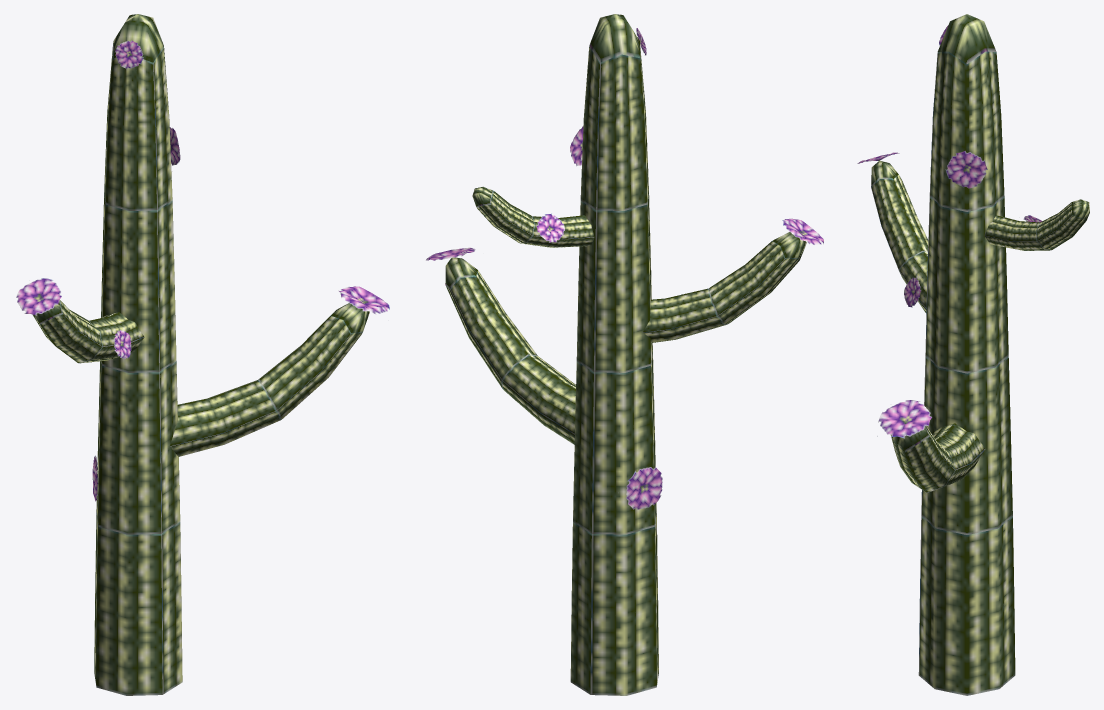
The model's file is cactus_Flowers_Large_hiPoly.fbx.
3 views of the same model, side by side, from view 1: azimuth 30°, elevation 25°; view 2: azimuth 150°, elevation 25°; view 3: azimuth 270°, elevation 25° (orthographic).
Parts seen in each view (by area): view 1: cactus_Flowers_Large_hiPoly; view 2: cactus_Flowers_Large_hiPoly; view 3: cactus_Flowers_Large_hiPoly.
Part boxes in pixels (x1=…): cactus_Flowers_Large_hiPoly: x1=16, y1=14, x2=389, y2=695; cactus_Flowers_Large_hiPoly: x1=426, y1=14, x2=823, y2=695; cactus_Flowers_Large_hiPoly: x1=857, y1=14, x2=1089, y2=695.
Size of the model in its own units: 2.51 by 4.14 by 1.35.
